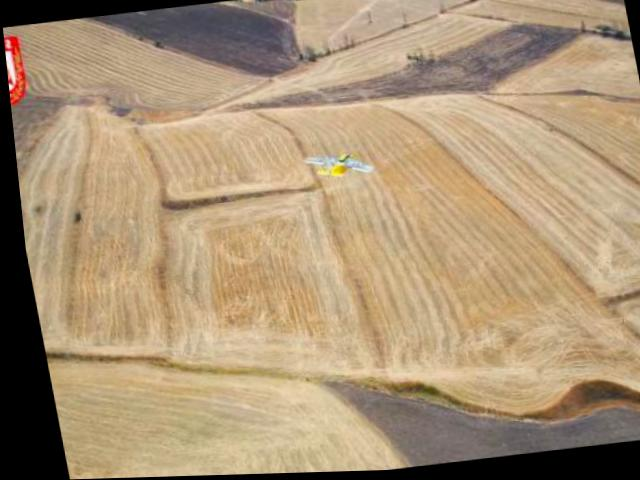uav: (299, 145, 374, 186)
